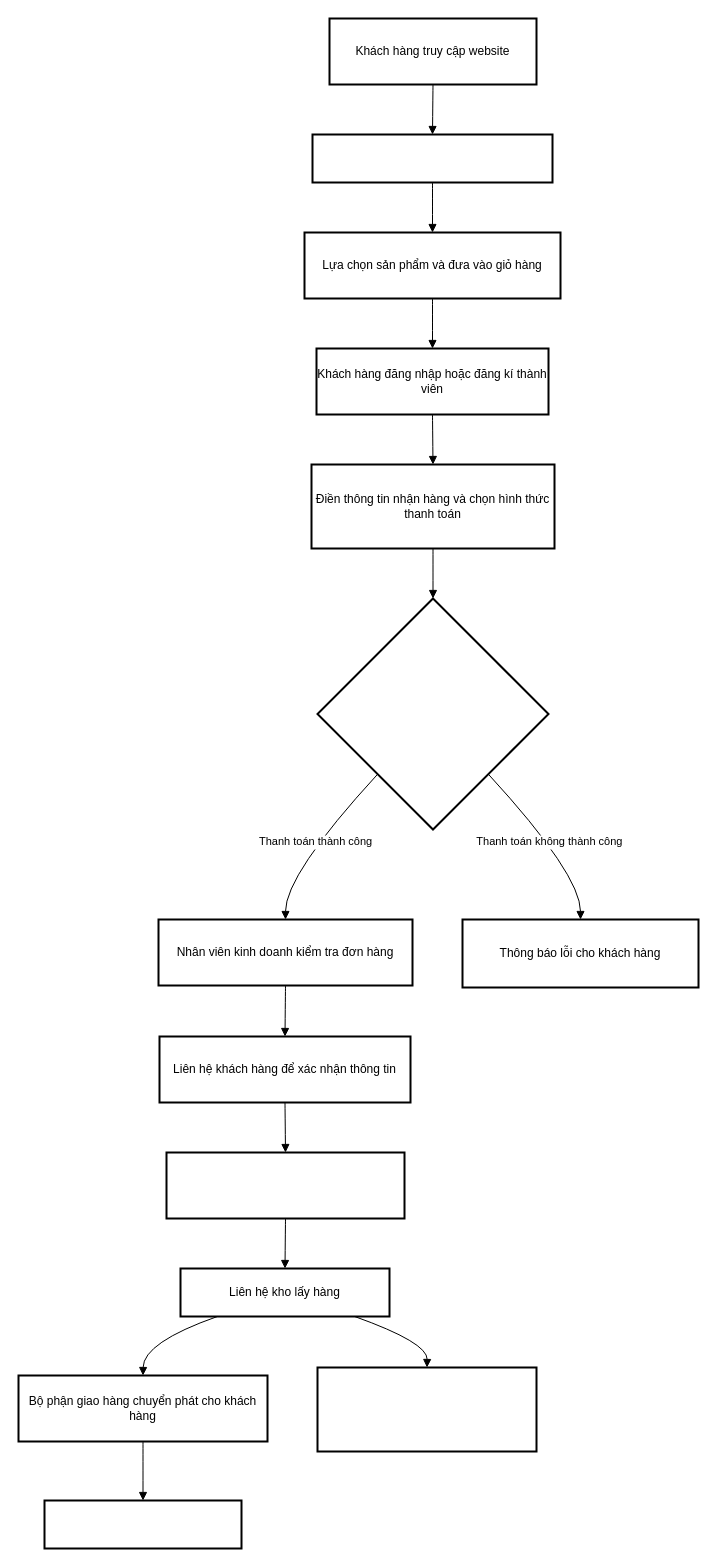
This 716x1566 diagram has some shape labels left out. The centre of each missing label's shape, as x and y in pixels:
Bộ phận kho cập nhật thông tin hàng lên hệ thống: the point at 426,1409
Chuyển đơn hàng cho bộ phận giao hàng: the point at 285,1185
Hoàn tất giao hàng: the point at 142,1524
Hệ thống kiểm tra đơn hàng: the point at 432,713
Xem các chủng loại hàng: the point at 432,158
